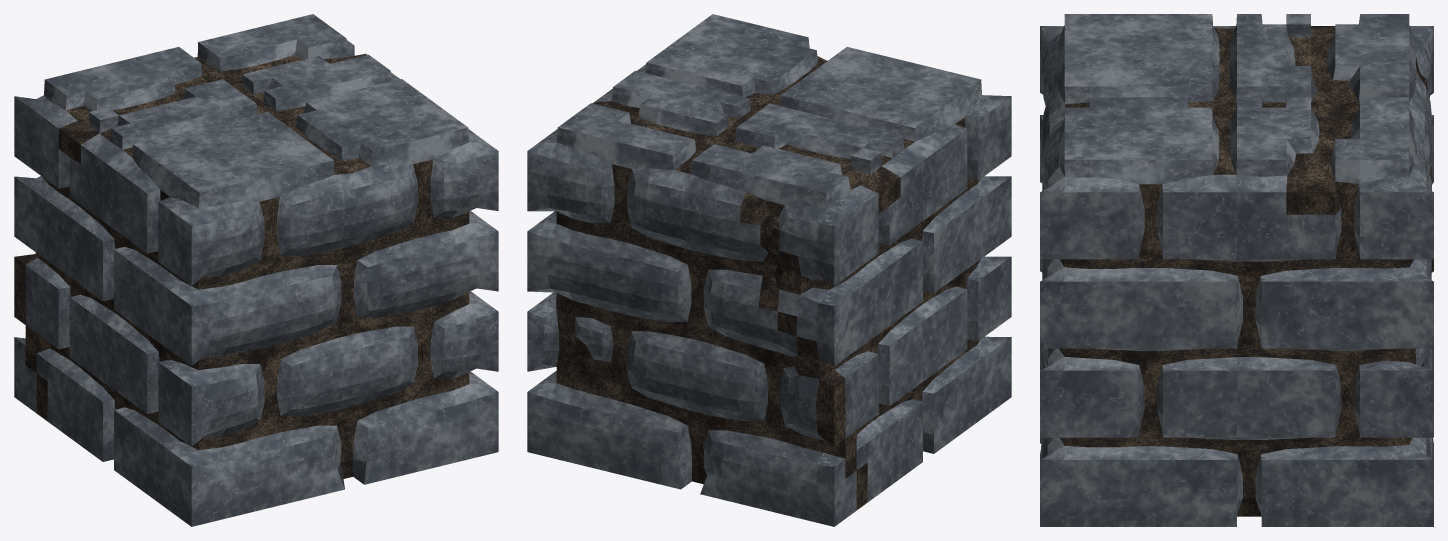
The model's file is block_cracked.glb.
The picture shows the model from 3 angles, left to right: view 1: azimuth 30°, elevation 25°; view 2: azimuth 150°, elevation 25°; view 3: azimuth 270°, elevation 25°; orthographic projection. The views are drawn at different scales.
Parts seen in each view (by area): view 1: crypt_block_cracked; view 2: crypt_block_cracked; view 3: crypt_block_cracked.
Part boxes in pixels (x1,y1,x2,y2): crypt_block_cracked: (14, 14, 498, 526); crypt_block_cracked: (527, 14, 1011, 526); crypt_block_cracked: (1040, 14, 1433, 526).
Bounding box in the file's own units: 1 × 1 × 1.
Materials: 1 (1 with a texture image).
